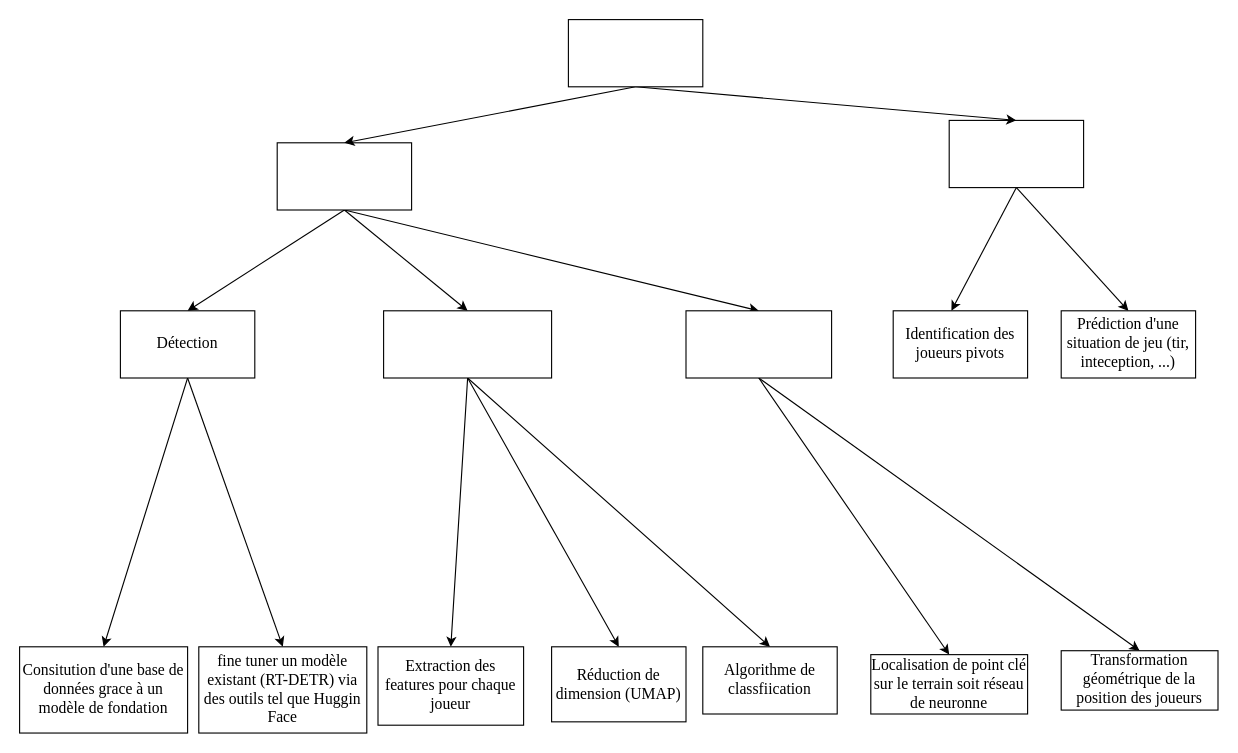
Some shapes in this 1238 by 753 pixel diagram are drawn without their labels. Each missing label, with the centre of its shape:
"Algorithme de traitement de données" goes at (x=1016, y=153).
"Collecte de données" goes at (x=344, y=176).
"Localisation des jouerus sur le terrain" goes at (x=758, y=344).
"Tracking des joueurs et attribution à une équipe" goes at (x=467, y=344).
